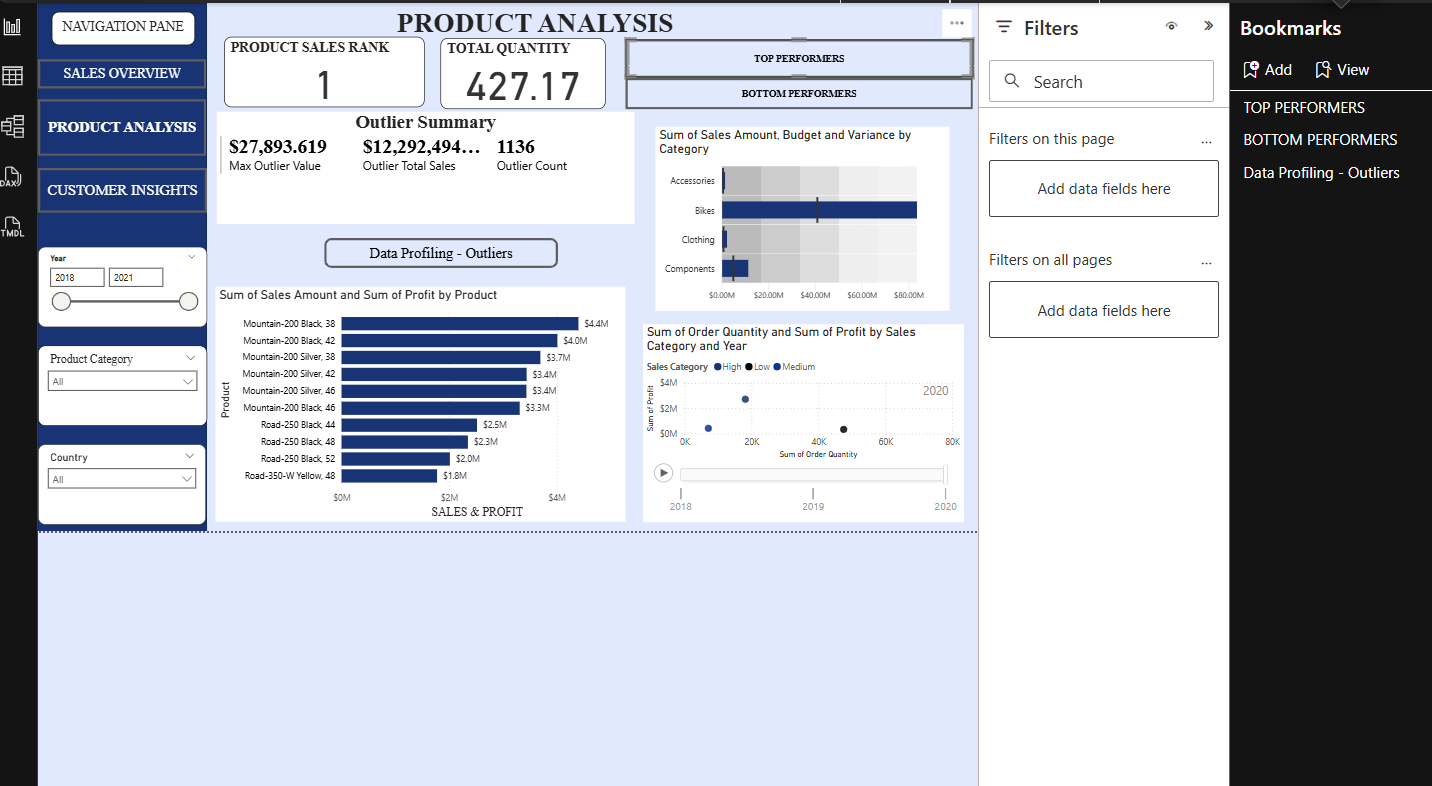

What the dashboard file says about the page in this screenshot:
{"tool":"powerbi","page":{"name":"Product Analysis","canvas":[1280,720],"ordinal":2},"visuals":[{"type":"slicer","fields":{"Values":["Date.Date.Variation.Date Hierarchy.Year"]},"box":[0,330.7,230.5,109.8],"z":0,"group":"g2"},{"type":"clusteredBarChart","fields":{"Category":["Product.Product"],"Y":["Sum(Sales.Sales Amount)"]},"box":[241.7,386.4,558.3,320],"z":0},{"type":"scatterChart","fields":{"X":["Sum(Sales.Order Quantity)"],"Y":["Sum(Sales.Profit)"],"Series":["Sales.Sales Category"],"Play":["Date.Date.Variation.Date Hierarchy.Year"]},"box":[823.3,437.7,436.4,269],"z":1000},{"type":"slicer","title":"Catrg","fields":{"Values":["Product.Category"]},"box":[0,465.2,230.5,109.8],"z":1000,"group":"g2"},{"type":"group","id":"g1","title":"Group 2","box":[0,0,230.1,720.3],"z":2000},{"type":"slicer","fields":{"Values":["Geography.Country-Region"]},"box":[0,599.7,229.2,109.8],"z":2000,"group":"g2"},{"type":"shape","box":[0,0,230.1,720.3],"z":3000,"group":"g1"},{"type":"textbox","box":[244.3,0,867.2,68.6],"z":3000},{"type":"actionButton","box":[0,130.6,228.9,77.1],"z":3000,"group":"g2"},{"type":"card","title":"PRODUCT SALES RANK","fields":{"Values":["Product.Product Sales Rank"]},"box":[253.9,45.3,273.1,96.1],"z":4000},{"type":"actionButton","box":[0,223.9,230.1,61],"z":4000,"group":"g2"},{"type":"card","title":"TOTAL QUANTITY","fields":{"Values":["Avg(Sales.Unit Price)"]},"box":[548.1,47.7,224.7,97],"z":5000},{"type":"actionButton","box":[0,75.9,228.9,39.8],"z":5000,"group":"g2"},{"type":"actionButton","box":[800,49.4,473.2,52.8],"z":6000},{"type":"group","id":"g2","title":"Group 1","box":[0,75.9,230.5,633.6],"z":6008,"group":"g1"},{"type":"actionButton","box":[800,102.1,473.2,42.6],"z":7000},{"type":"PBI_CV_9272D058_BEA0_476A_B090_A712545F92FA","fields":{"Value":["Sum(Sales.Sales Amount)"],"targets":["Sales.Budget"],"Category":["Product.Category"],"tooltips":["Customer.Variance"]},"box":[840.9,168.5,400,250.2],"z":8000},{"type":"textbox","box":[19.2,12.3,194.9,45.3],"z":9000},{"type":"multiRowCard","title":"Outlier Summary","fields":{"Values":["Customer.Max Outlier Value","Customer.Outlier Total Sales","Customer.Outlier Count"]},"box":[243.4,148.1,568.5,153.2],"z":10000},{"type":"actionButton","box":[389.8,320,318.3,40.9],"z":11000}]}

Visuals, with their boxes on the page's 1280x720 design canvas (x1, y1, x2, y2). These are canvas units, not pixel positions in the 1432x786 screenshot, which may show the page scaled, cropped or inside an application window:
slicer - Date.Date.Variation.Date Hierarchy.Year: bbox(0, 331, 230, 440)
clusteredBarChart - Product.Product x Sum(Sales.Sales Amount): bbox(242, 386, 800, 706)
scatterChart - Sum(Sales.Order Quantity) x Sum(Sales.Profit): bbox(823, 438, 1260, 707)
"Catrg" slicer: bbox(0, 465, 230, 575)
"Group 2" group: bbox(0, 0, 230, 720)
slicer - Geography.Country-Region: bbox(0, 600, 229, 710)
shape: bbox(0, 0, 230, 720)
textbox: bbox(244, 0, 1112, 69)
actionButton: bbox(0, 131, 229, 208)
"PRODUCT SALES RANK" card: bbox(254, 45, 527, 141)
actionButton: bbox(0, 224, 230, 285)
"TOTAL QUANTITY" card: bbox(548, 48, 773, 145)
actionButton: bbox(0, 76, 229, 116)
actionButton: bbox(800, 49, 1273, 102)
"Group 1" group: bbox(0, 76, 230, 710)
actionButton: bbox(800, 102, 1273, 145)
PBI_CV_9272D058_BEA0_476A_B090_A712545F92FA - Sum(Sales.Sales Amount) x Sales.Budget: bbox(841, 168, 1241, 419)
textbox: bbox(19, 12, 214, 58)
"Outlier Summary" multiRowCard: bbox(243, 148, 812, 301)
actionButton: bbox(390, 320, 708, 361)
